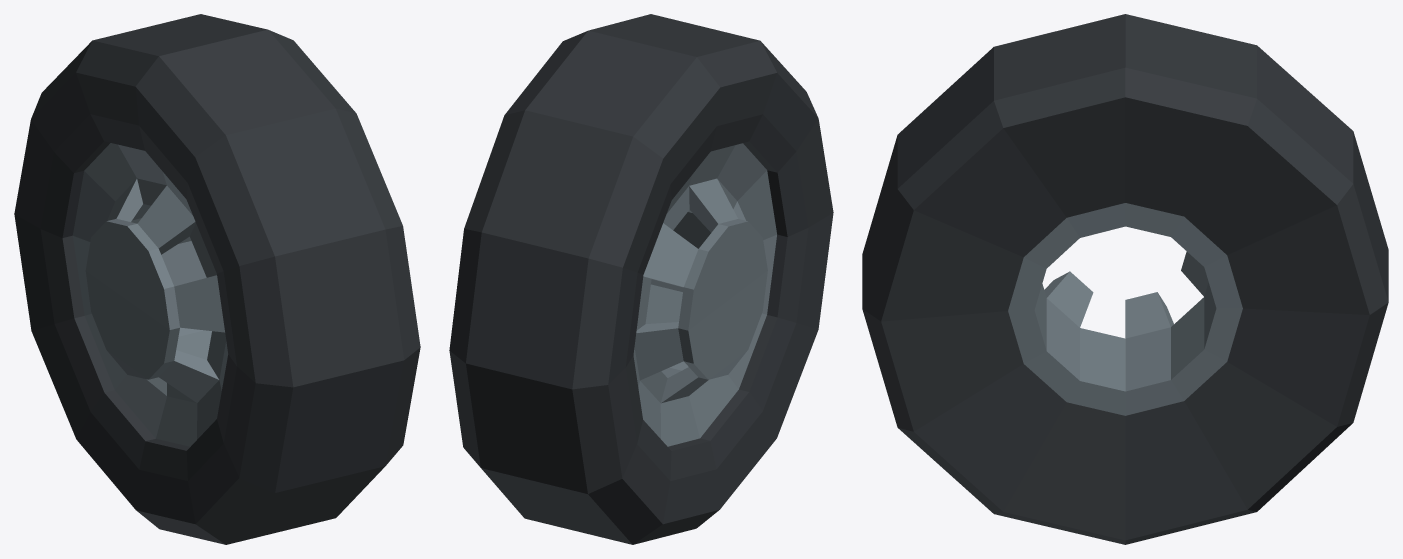
Rendered from SM_Prop_Cart_Wood_WHeel_r.glb.
3 renders of one model, left to right at view 1: azimuth 30°, elevation 25°; view 2: azimuth 150°, elevation 25°; view 3: azimuth 270°, elevation 25°, orthographic.
Visible parts, largest first — view 1: SM_Prop_Cart_Wood_WHeel_r; view 2: SM_Prop_Cart_Wood_WHeel_r; view 3: SM_Prop_Cart_Wood_WHeel_r.
Boxes of the visible parts, x1,y1,x2,y2 form: SM_Prop_Cart_Wood_WHeel_r: (14, 14, 420, 544); SM_Prop_Cart_Wood_WHeel_r: (449, 14, 833, 544); SM_Prop_Cart_Wood_WHeel_r: (862, 14, 1388, 544).
Size of the model in its own units: 0.304 by 0.7952 by 0.7952.
Materials: 1 (1 with a texture image).
